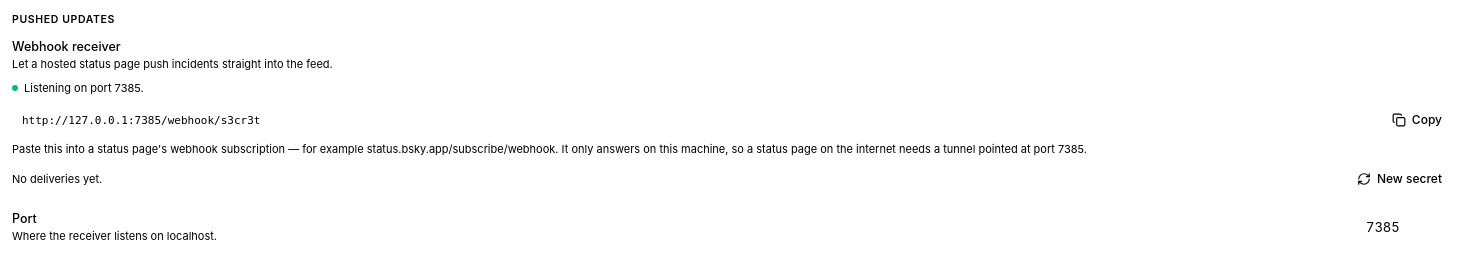
Test: the endpoint › says why a new secret could not be minted
Click the button "New secret": {"x": 1399, "y": 179} [1347,165,1452,193]
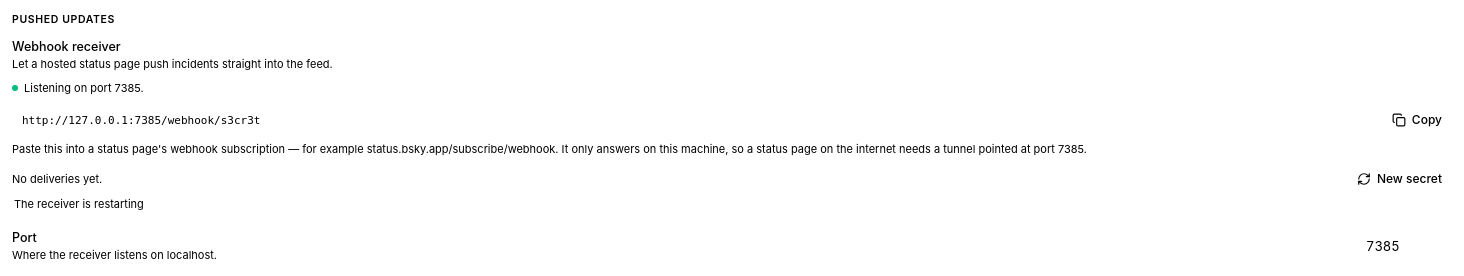
Check: the message "The receiver is restarting" is shown, box [14,197,144,211]
